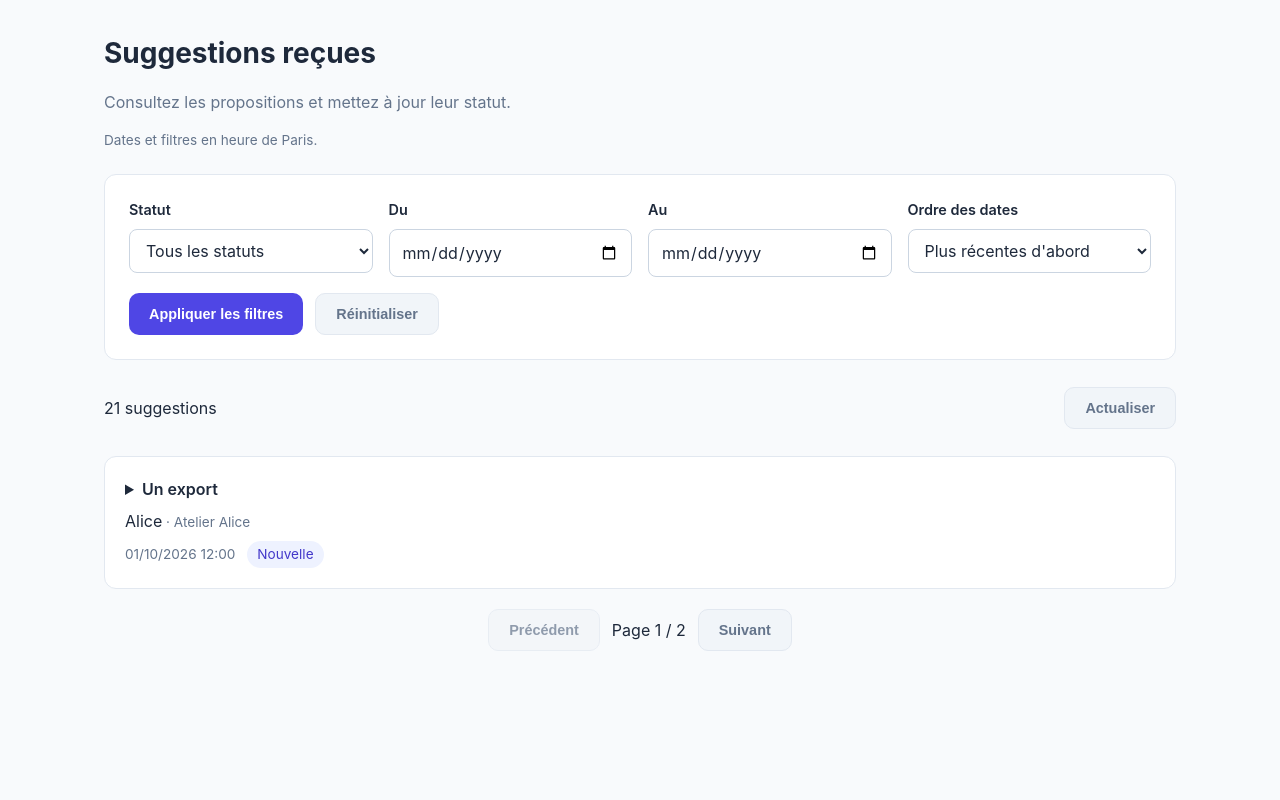
Scenario: DevSuggestionsView › filtre et applique le statut termine en conservant le detail ouvert
Select "Terminé" in the dropdown with id "suggestion-status-filter" at (251, 251), box top-left (129, 229), bottom-right (372, 273)
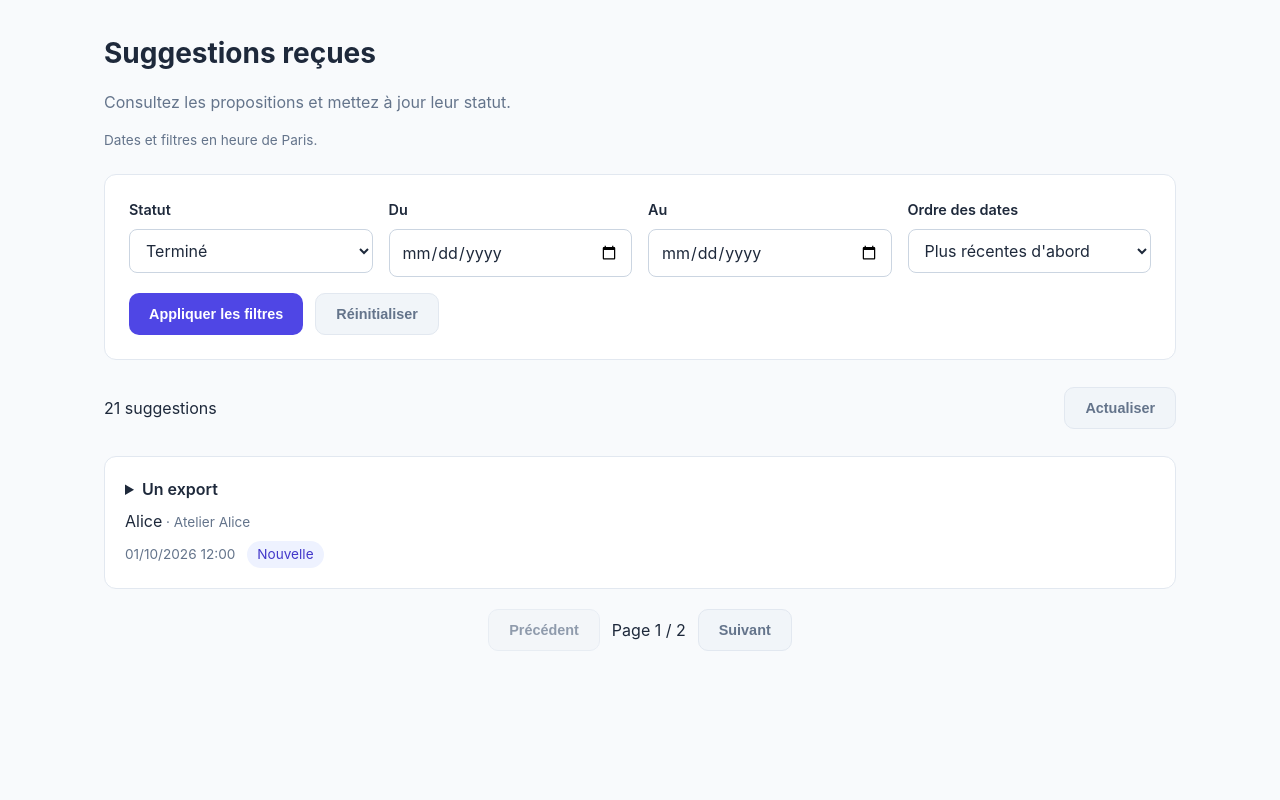
Submit the form with class "suggestions-filters", box top-left (104, 174), bottom-right (1176, 360)
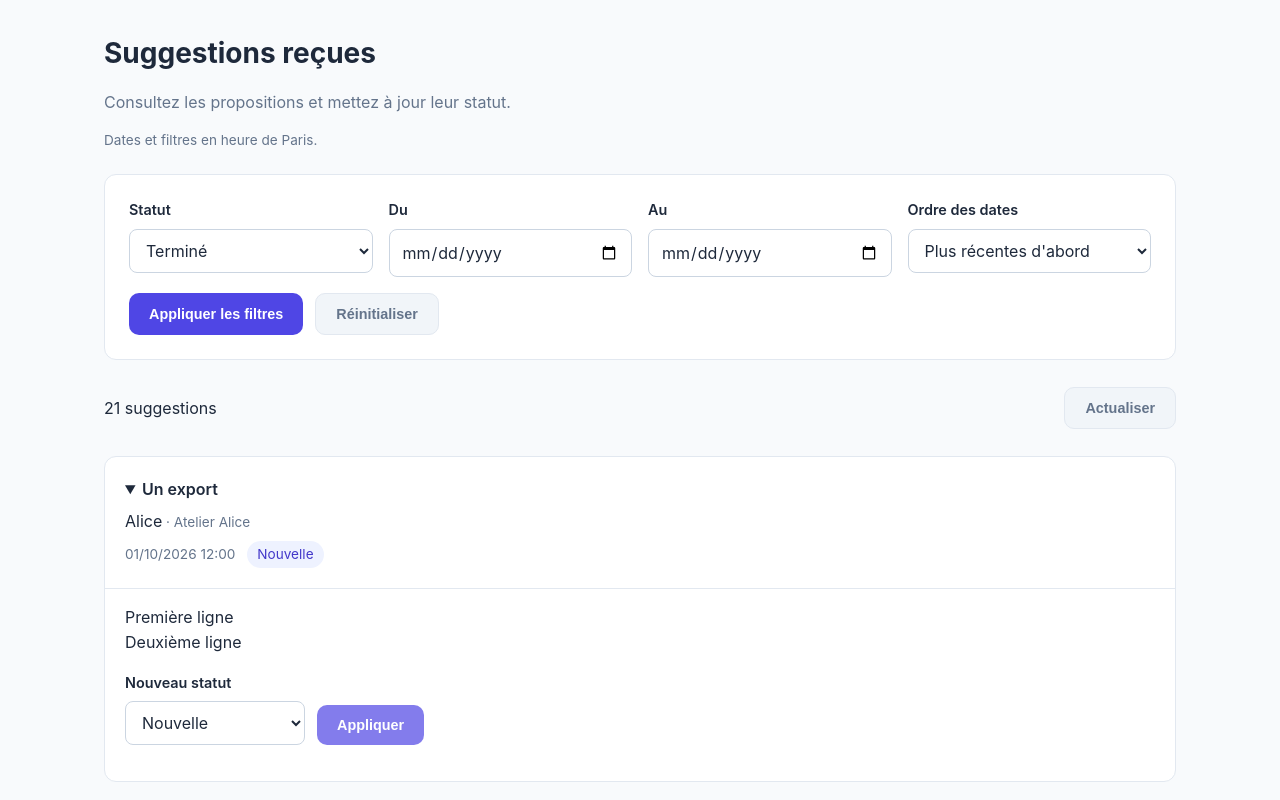
Select "Terminé" in the dropdown with id "suggestion-status-1" at (215, 723), box top-left (125, 701), bottom-right (305, 745)
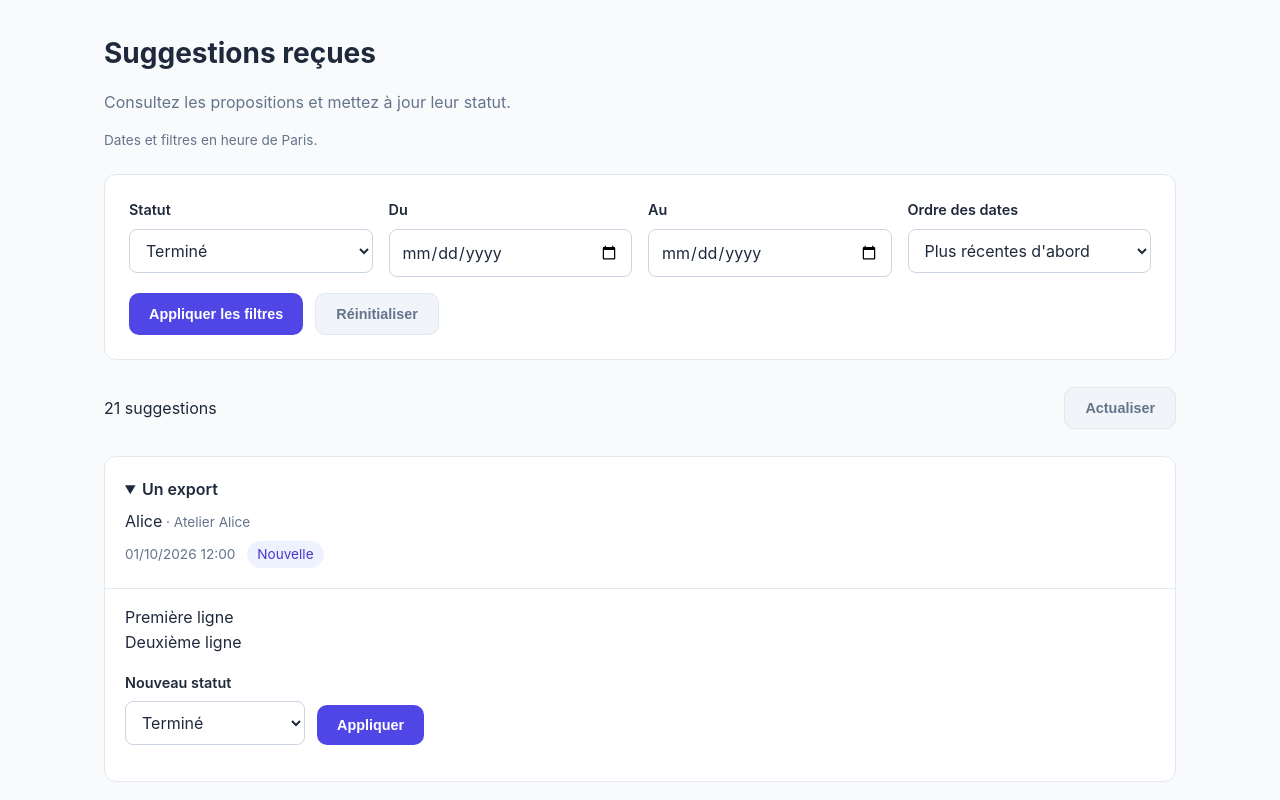
Submit the form with class "suggestion-status-form", box top-left (125, 674), bottom-right (424, 745)
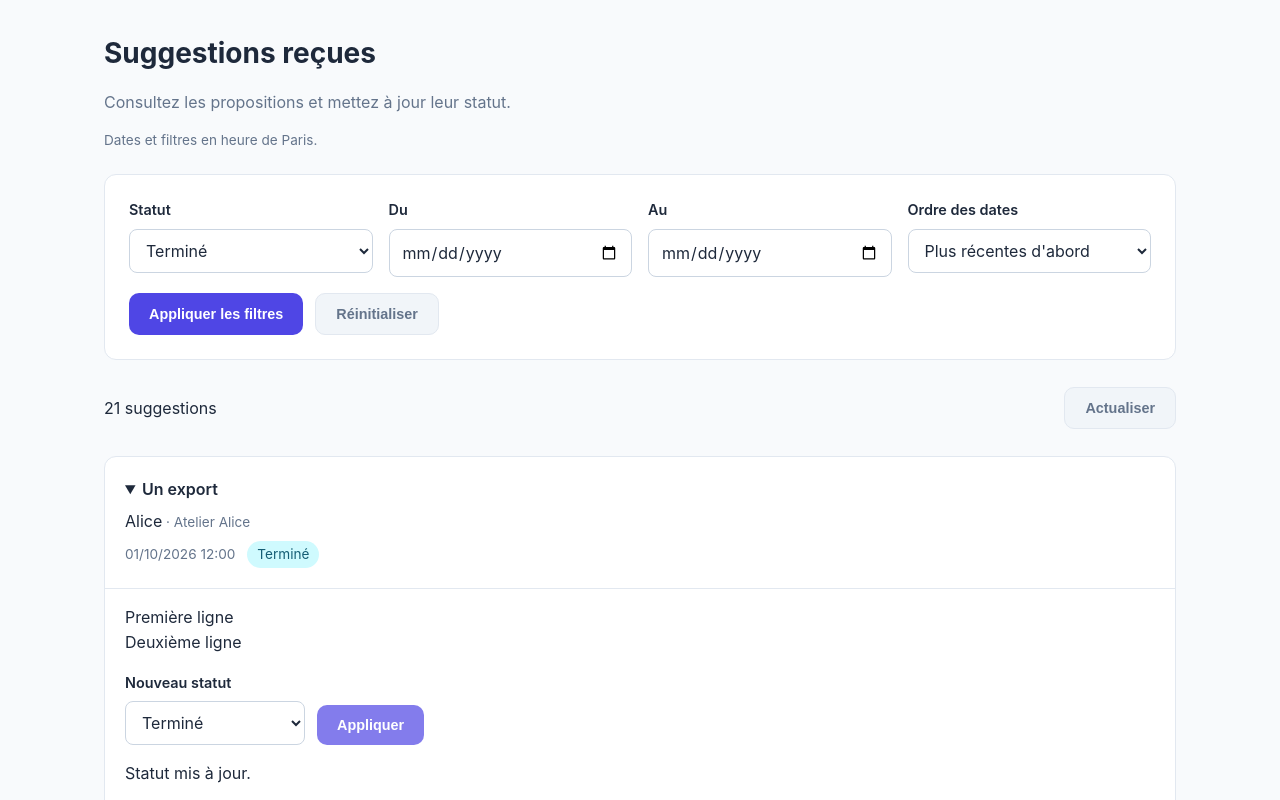
Now the text with class "suggestion-status" reads "Terminé", box top-left (257, 546), bottom-right (309, 562)
